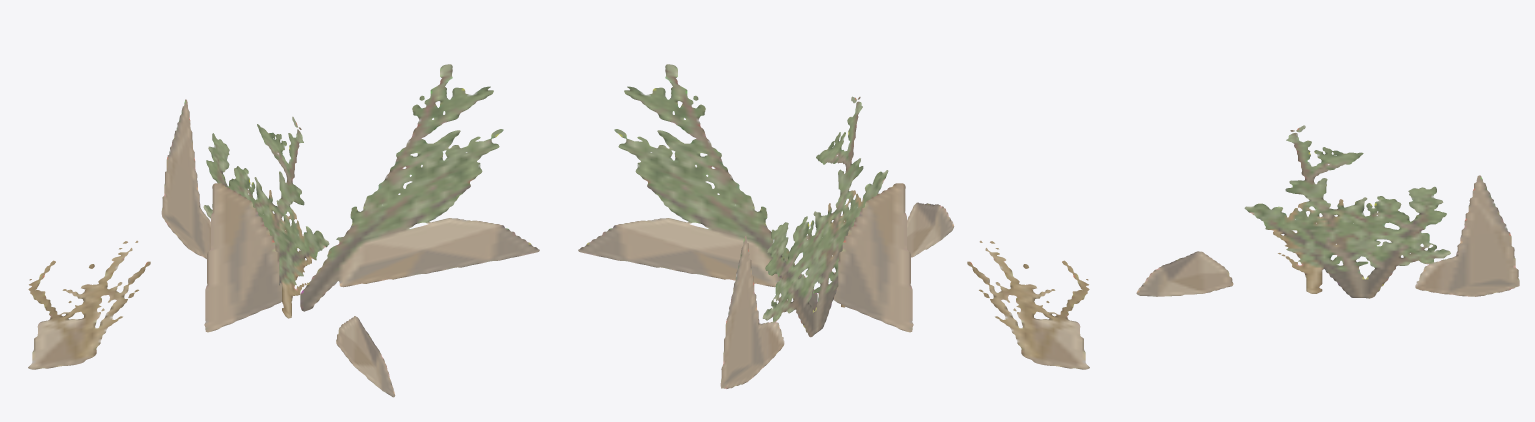
Rendered from c03b-far.glb.
The picture shows the model from 3 angles, left to right: view 1: azimuth 30°, elevation 25°; view 2: azimuth 150°, elevation 25°; view 3: azimuth 270°, elevation 25°; orthographic projection. The views are drawn at different scales.
Size of the model in its own units: 1.35 by 0.5368 by 1.04.
Materials: 1 (1 with a texture image).
